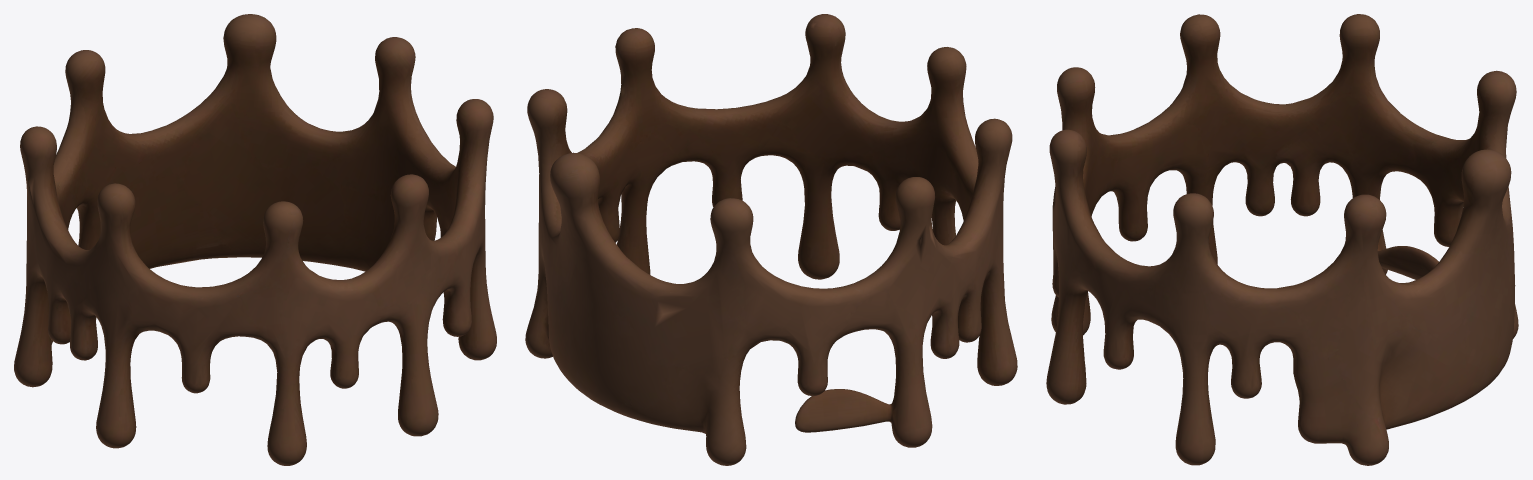
Rendered from bk-decor-glaze-drip-ring.glb.
3 views of the same model, side by side, from view 1: azimuth 30°, elevation 25°; view 2: azimuth 150°, elevation 25°; view 3: azimuth 270°, elevation 25° (orthographic). The views are drawn at different scales.
Visible parts, largest first — view 1: node_0; view 2: node_0; view 3: node_0.
Boxes of the visible parts, x1=… form: node_0: x1=14, y1=14, x2=496, y2=465; node_0: x1=525, y1=14, x2=1017, y2=465; node_0: x1=1046, y1=14, x2=1518, y2=465.
Bounding box in the file's own units: 0.9777 × 0.6156 × 0.9837.
Materials: 1 (1 with a texture image).
